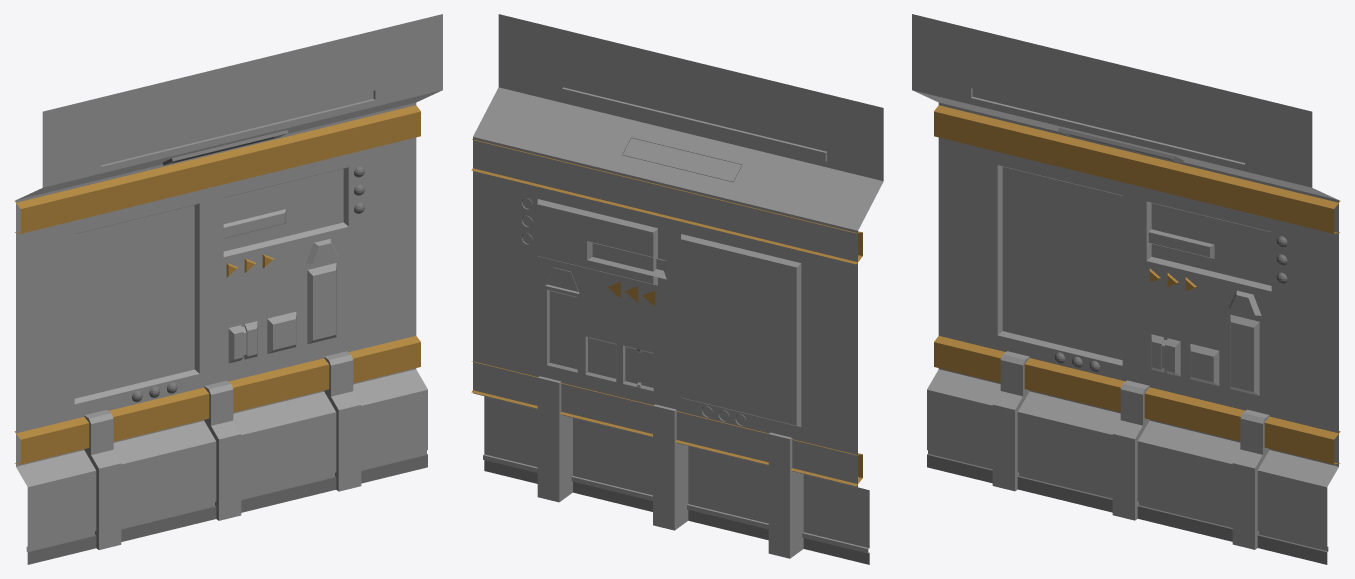
The model's file is Wall_1.glb.
3 renders of one model, left to right at view 1: azimuth 30°, elevation 25°; view 2: azimuth 150°, elevation 25°; view 3: azimuth 330°, elevation 25°, orthographic. The views are drawn at different scales.
Parts seen in each view (by area): view 1: Wall_1; view 2: Wall_1; view 3: Wall_1.
Boxes of the visible parts, x1,y1,x2,y2 form: Wall_1: (14,14,442,564); Wall_1: (471,14,883,564); Wall_1: (912,14,1340,564).
Bounding box in the file's own units: 1.36 × 1.51 × 0.1852.
